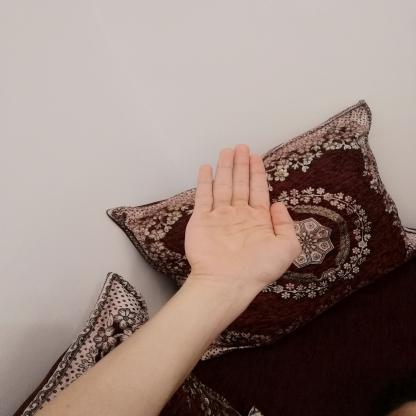SEEN: (175, 136, 307, 294)
